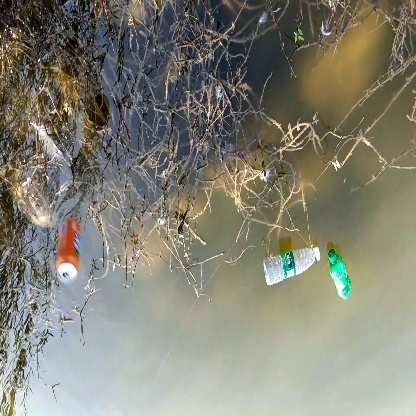bottle: (261, 238, 322, 290), (51, 215, 88, 279), (327, 246, 357, 302)
